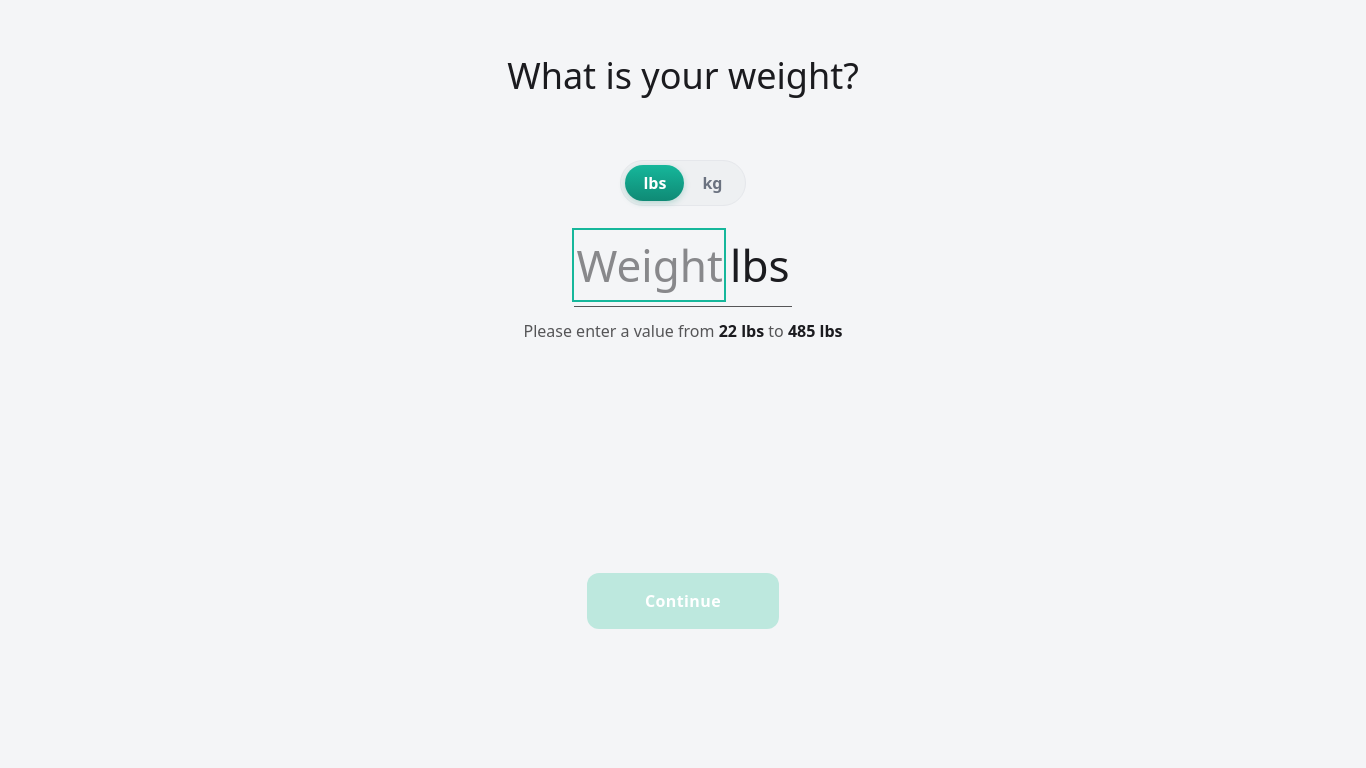
Test case: WeightPage — goal step › shows gain insight when goal exceeds current weight
Type "200" into the field named "Your weight in lbs".
click(649, 265); type("200")  # box [576,232,722,298]
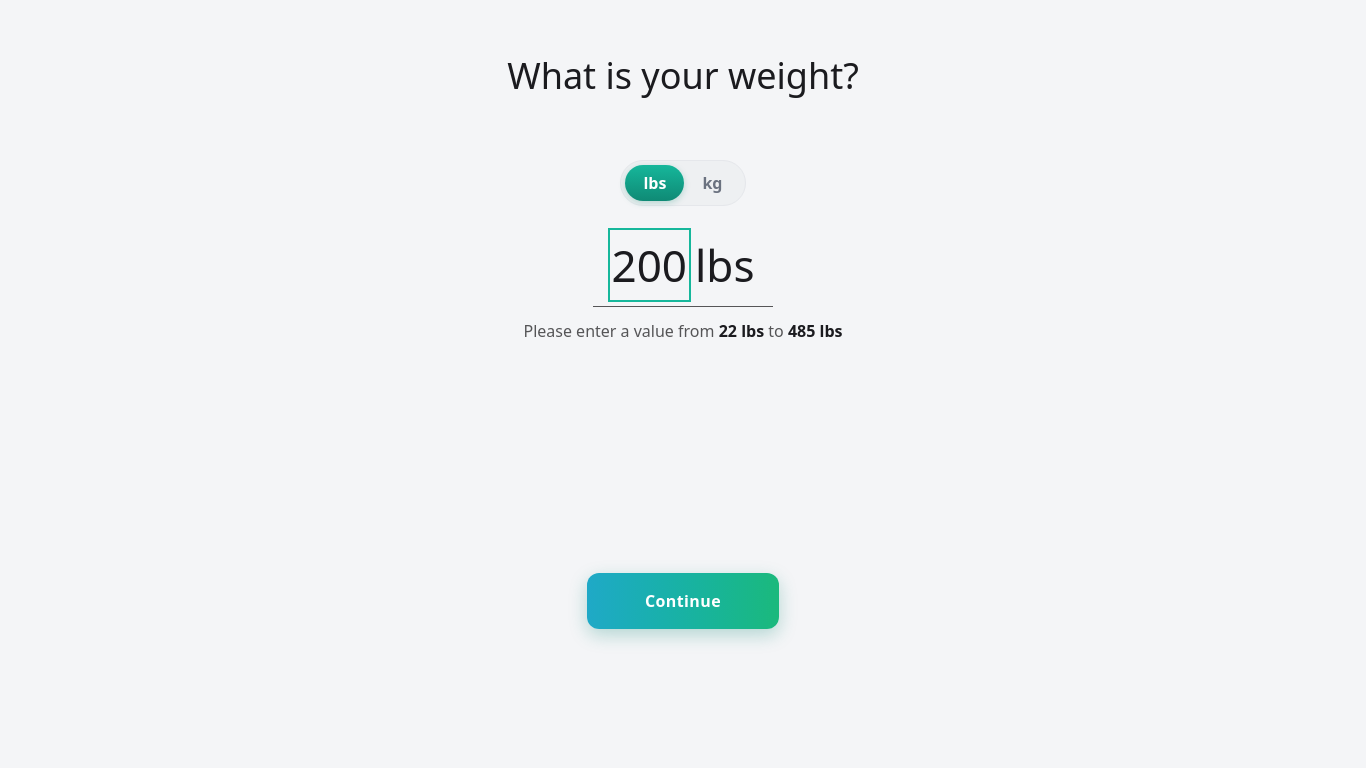
Click the button "Continue".
click(683, 601)  # box [587,573,779,629]
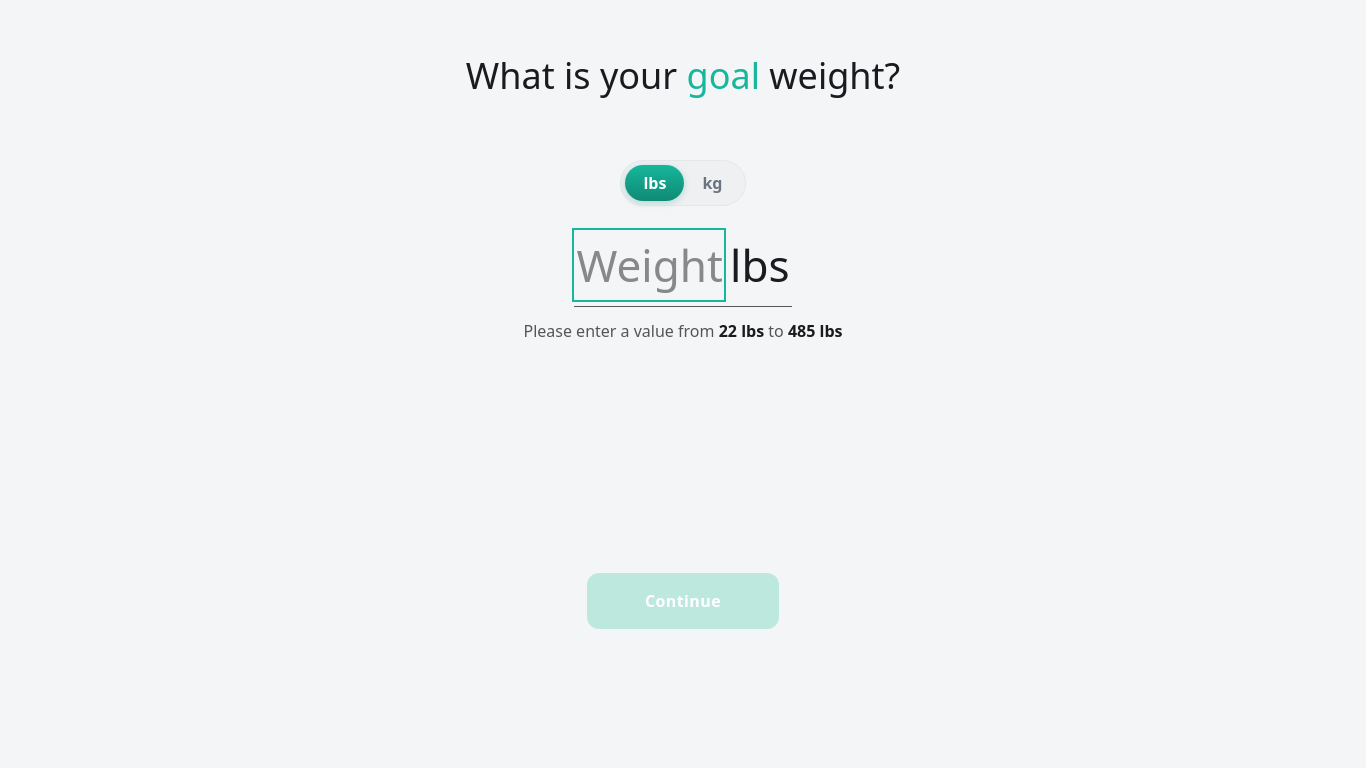
Type "240" into the field named "Goal weight in lbs".
click(649, 265); type("240")  # box [576,232,722,298]
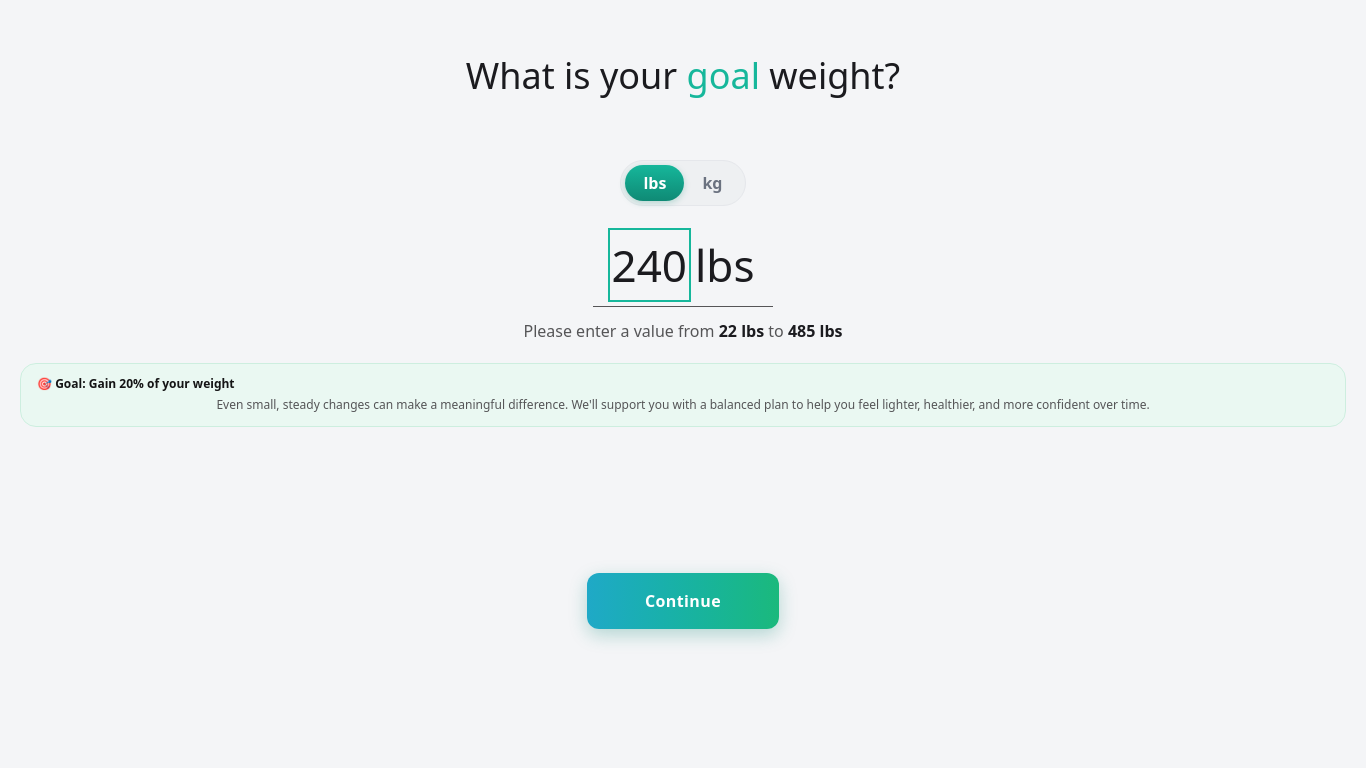
Check: the text "🎯 Goal: Gain 20% of your weight" is shown, box [37,375,235,392]
